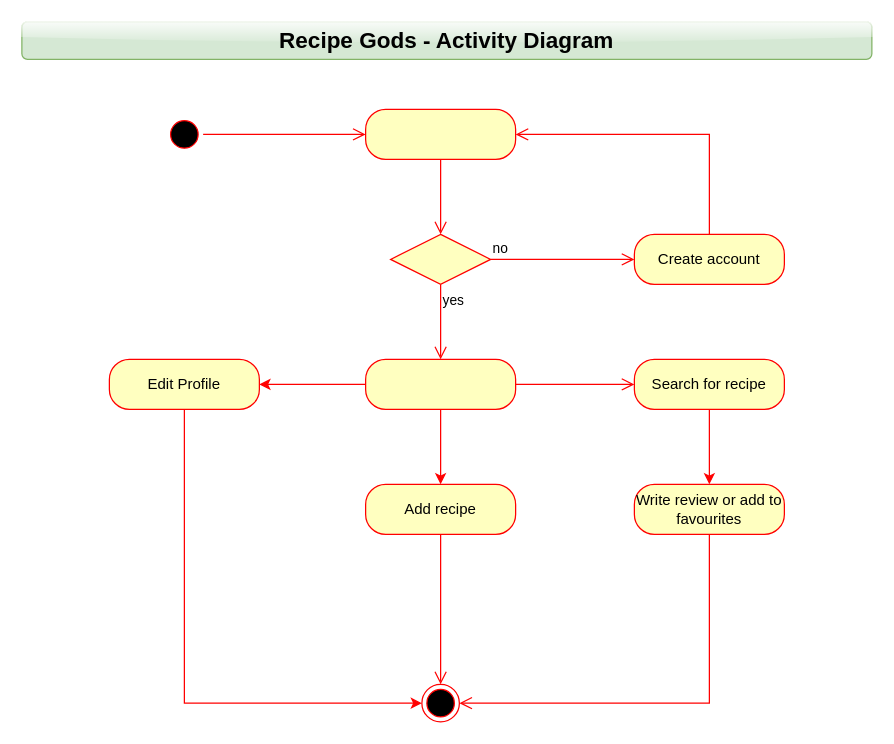
Some shapes in this 894 by 744 pixel diagram are drawn without their labels. The box of each missing label's shape, as (x1, y1, x2, y2) in pixels:
Condition: (389, 233, 491, 284)
Does user have an account: (364, 108, 516, 159)
Log-In: (364, 358, 516, 409)
